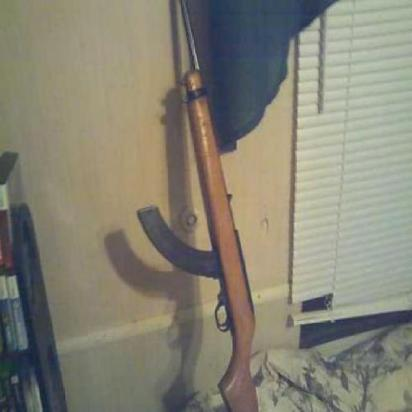Gun: (131, 2, 262, 411)
